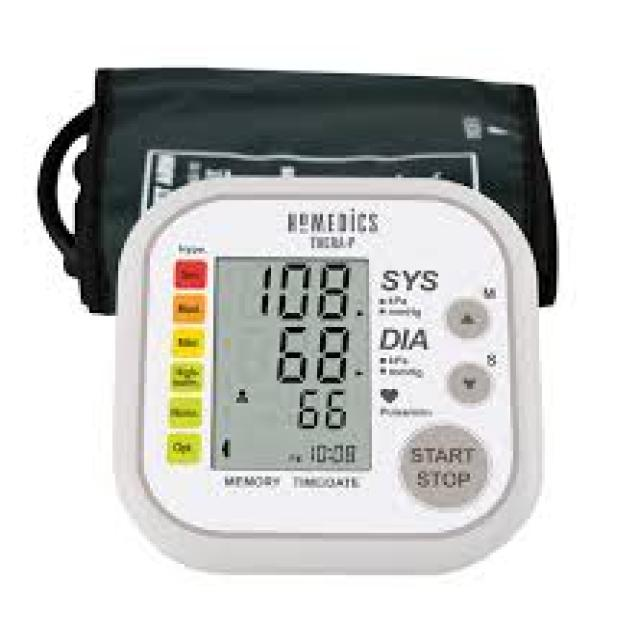dia: (269, 316, 358, 389)
pul: (286, 384, 356, 437)
ssd: (215, 257, 373, 472)
sys: (249, 258, 355, 316)
